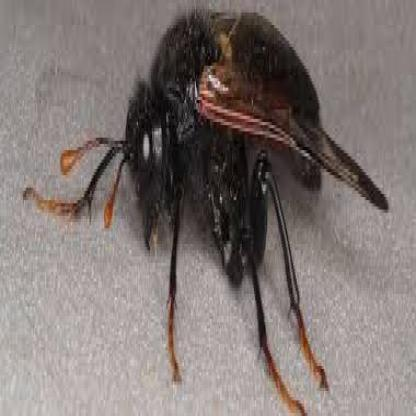sawfly: (23, 0, 392, 415)
